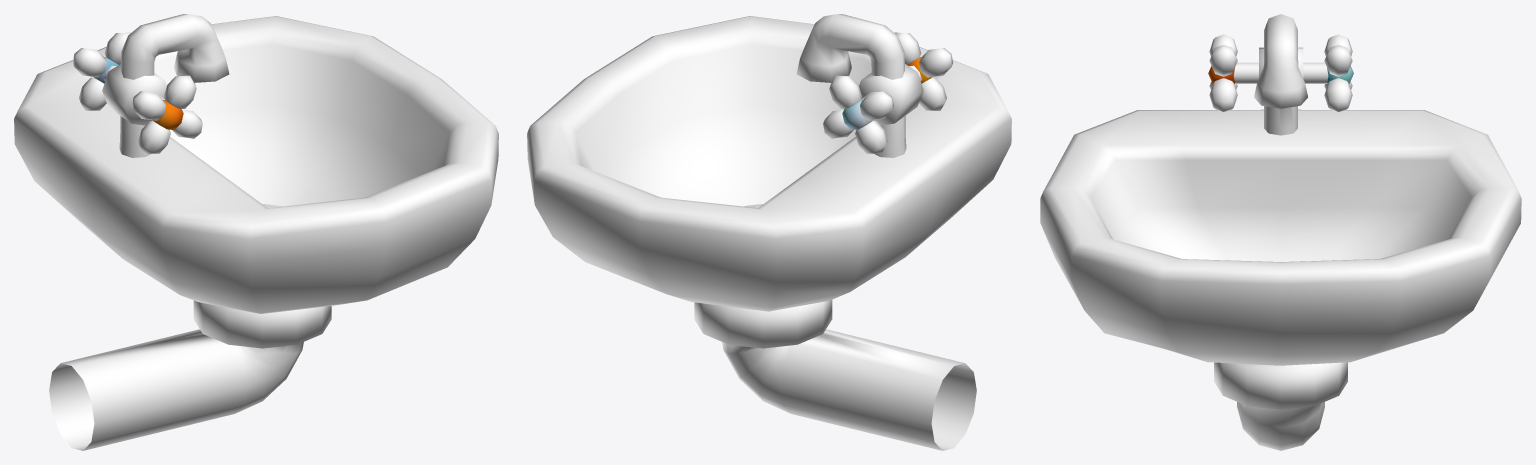
Rendered from Sink.fbx.
The picture shows the model from 3 angles, left to right: view 1: azimuth 30°, elevation 25°; view 2: azimuth 150°, elevation 25°; view 3: azimuth 270°, elevation 25°; orthographic projection. The views are drawn at different scales.
Visible parts, largest first — view 1: Sink; view 2: Sink; view 3: Sink.
Boxes of the visible parts, x1=… form: Sink: x1=14, y1=14, x2=498, y2=450; Sink: x1=527, y1=14, x2=1011, y2=450; Sink: x1=1040, y1=14, x2=1521, y2=450.
Size of the model in its own units: 1.07 by 1.03 by 1.19.
